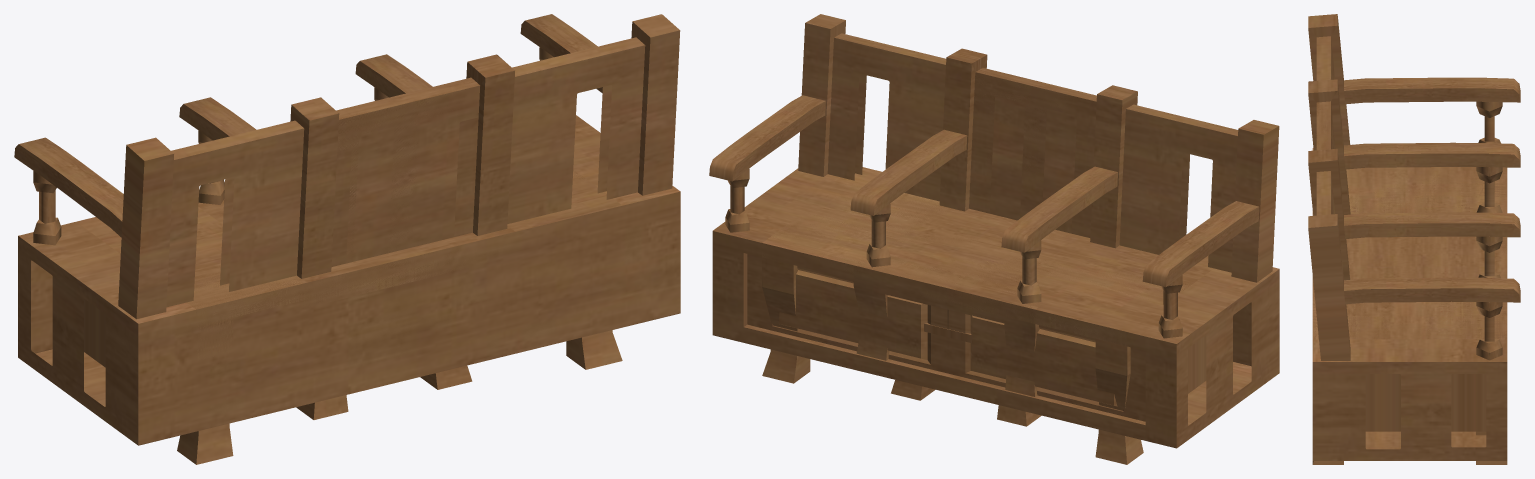
File: WoodenFurnatureSetNew.fbx
3 renders of one model, left to right at view 1: azimuth 30°, elevation 25°; view 2: azimuth 150°, elevation 25°; view 3: azimuth 270°, elevation 25°, orthographic. The views are drawn at different scales.
Visible parts, largest first — view 1: WoodenCouch, WoodenChair, WoodenTable, WoodenMiniTable; view 2: WoodenCouch, WoodenChair, WoodenTable, WoodenCouch_Rdoor, WoodenCouch_Ldoor, WoodenMiniTable; view 3: WoodenCouch, WoodenChair, WoodenTable.
Boxes of the visible parts, bbox=[...] form: WoodenCouch: bbox=[14, 14, 680, 445]; WoodenChair: bbox=[179, 54, 515, 308]; WoodenTable: bbox=[76, 171, 622, 464]; WoodenMiniTable: bbox=[296, 365, 472, 419]; WoodenCouch: bbox=[709, 14, 1279, 448]; WoodenChair: bbox=[850, 48, 1137, 396]; WoodenTable: bbox=[762, 180, 1213, 464]; WoodenCouch_Rdoor: bbox=[747, 254, 947, 373]; WoodenCouch_Ldoor: bbox=[948, 310, 1145, 421]; WoodenMiniTable: bbox=[891, 380, 1041, 426]; WoodenCouch: bbox=[1308, 14, 1520, 460]; WoodenChair: bbox=[1308, 79, 1520, 291]; WoodenTable: bbox=[1312, 170, 1507, 464].
Bounding box in the file's own units: 198 × 113 × 83.13.
